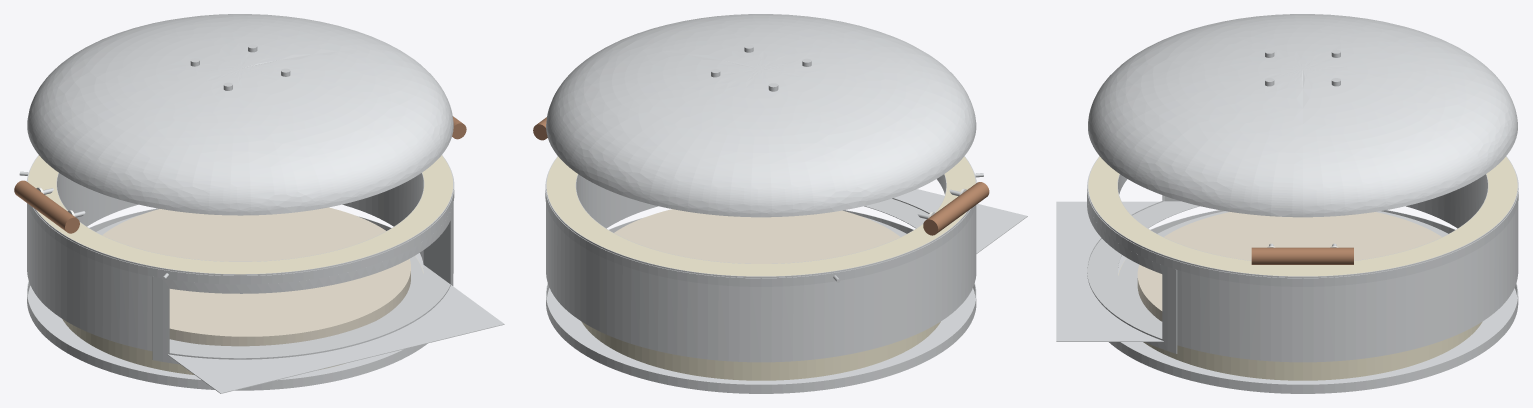
The model's file is moondancer-exploded.glb.
3 renders of one model, left to right at view 1: azimuth 30°, elevation 25°; view 2: azimuth 150°, elevation 25°; view 3: azimuth 270°, elevation 25°, orthographic.
Visible parts, largest first — view 1: outer_dome, floor_cordierite, outer_skirt, mouth_frame, wall_insulation, peel_landing, cinch_band, liner_skirt, base_lip, base_pan, floor_insulation, handle_port (+1 smaller); view 2: outer_dome, outer_skirt, floor_cordierite, wall_insulation, floor_insulation, base_pan, base_lip, cinch_band, liner_skirt, peel_landing, handle_port, mouth_frame; view 3: outer_dome, outer_skirt, floor_cordierite, wall_insulation, peel_landing, mouth_frame, floor_insulation, base_lip, cinch_band, base_pan, liner_skirt, handle_starboard (+1 smaller).
Boxes of the visible parts, x1=… form: outer_dome: x1=27, y1=14, x2=453, y2=215; floor_cordierite: x1=102, y1=207, x2=410, y2=346; outer_skirt: x1=27, y1=155, x2=453, y2=351; mouth_frame: x1=152, y1=204, x2=453, y2=364; wall_insulation: x1=27, y1=155, x2=452, y2=274; peel_landing: x1=167, y1=285, x2=504, y2=393; cinch_band: x1=26, y1=170, x2=454, y2=284; liner_skirt: x1=56, y1=173, x2=424, y2=263; base_lip: x1=27, y1=208, x2=425, y2=389; base_pan: x1=27, y1=253, x2=427, y2=390; floor_insulation: x1=62, y1=256, x2=423, y2=374; handle_port: x1=14, y1=180, x2=79, y2=233; outer_dome: x1=546, y1=14, x2=976, y2=217; outer_skirt: x1=546, y1=156, x2=976, y2=362; floor_cordierite: x1=614, y1=209, x2=900, y2=263; wall_insulation: x1=546, y1=156, x2=975, y2=276; floor_insulation: x1=581, y1=321, x2=940, y2=380; base_pan: x1=546, y1=288, x2=976, y2=393; base_lip: x1=546, y1=210, x2=976, y2=393; cinch_band: x1=545, y1=174, x2=976, y2=286; liner_skirt: x1=575, y1=174, x2=946, y2=263; peel_landing: x1=894, y1=189, x2=1027, y2=253; handle_port: x1=923, y1=182, x2=989, y2=235; mouth_frame: x1=864, y1=180, x2=944, y2=228; outer_dome: x1=1088, y1=14, x2=1517, y2=217; outer_skirt: x1=1087, y1=156, x2=1518, y2=362; floor_cordierite: x1=1137, y1=212, x2=1441, y2=321; wall_insulation: x1=1088, y1=156, x2=1517, y2=276; peel_landing: x1=1056, y1=201, x2=1163, y2=341; mouth_frame: x1=1087, y1=179, x2=1199, y2=353; floor_insulation: x1=1118, y1=258, x2=1482, y2=380; base_lip: x1=1109, y1=210, x2=1518, y2=393; cinch_band: x1=1087, y1=171, x2=1518, y2=286; base_pan: x1=1109, y1=255, x2=1517, y2=393; liner_skirt: x1=1117, y1=174, x2=1488, y2=260; handle_starboard: x1=1251, y1=247, x2=1353, y2=264.
Bounding box in the file's own units: 0.594 × 0.3403 × 0.5875.
